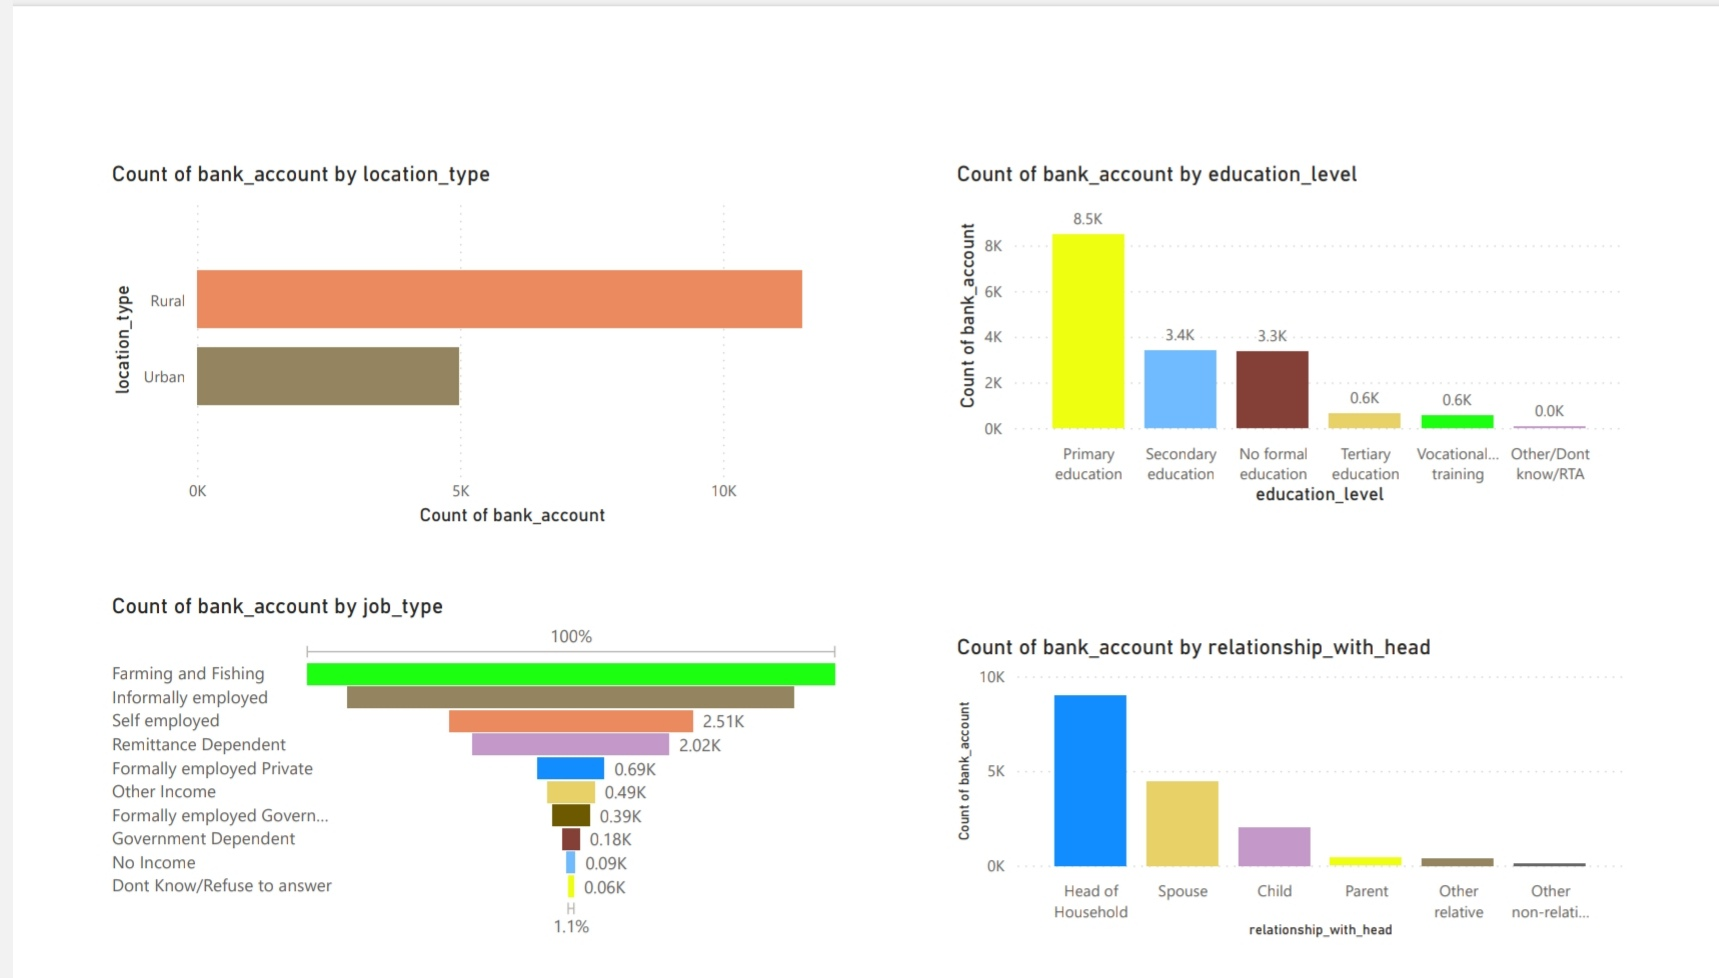

The page's visual inventory and layout, read from the dashboard file:
{"tool":"powerbi","page":{"name":"Page 2","canvas":[1280,720],"ordinal":1},"visuals":[{"type":"clusteredBarChart","fields":{"Category":["train.location_type"],"Y":["CountNonNull(train.bank_account)"]},"box":[48,96,576,288],"z":0},{"type":"clusteredColumnChart","fields":{"Y":["CountNonNull(train.bank_account)"],"Category":["train.education_level"]},"box":[704,96,528,272],"z":1},{"type":"funnel","fields":{"Category":["train.job_type"],"Y":["CountNonNull(train.bank_account)"]},"box":[48,432,576,272],"z":2},{"type":"clusteredColumnChart","fields":{"Category":["train.relationship_with_head"],"Y":["CountNonNull(train.bank_account)"]},"box":[704,464,528,240],"z":3}]}

Visuals, with their boxes in screenshot pixels (x1, y1, x2, y2), scaled from the page's 1280x720 canvas onto the 1719x978 screenshot:
clusteredBarChart - train.location_type x CountNonNull(train.bank_account): rect(64, 130, 838, 522)
clusteredColumnChart - CountNonNull(train.bank_account) x train.education_level: rect(945, 130, 1655, 500)
funnel - train.job_type x CountNonNull(train.bank_account): rect(64, 587, 838, 956)
clusteredColumnChart - train.relationship_with_head x CountNonNull(train.bank_account): rect(945, 630, 1655, 956)
